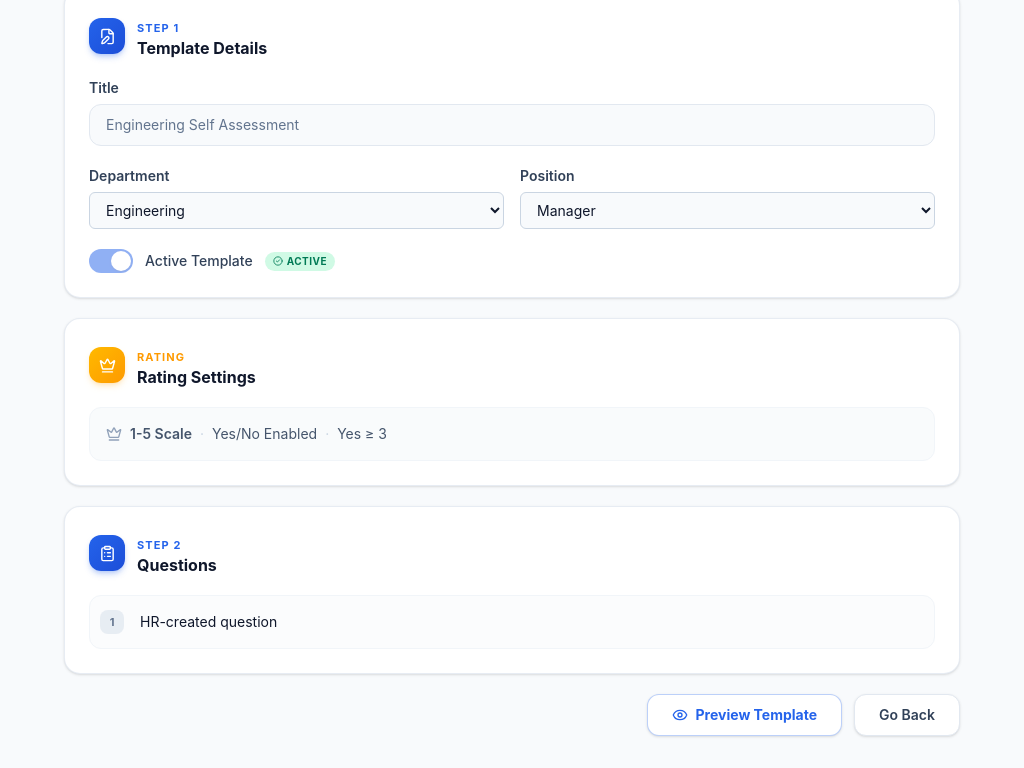
Test case: EditSelfAssessmentTemplatePage manager question permissions › lets locked templates open the preview
(page scrolled)
Click the button "Preview Template" at (744, 715), box [646,694,842,736]
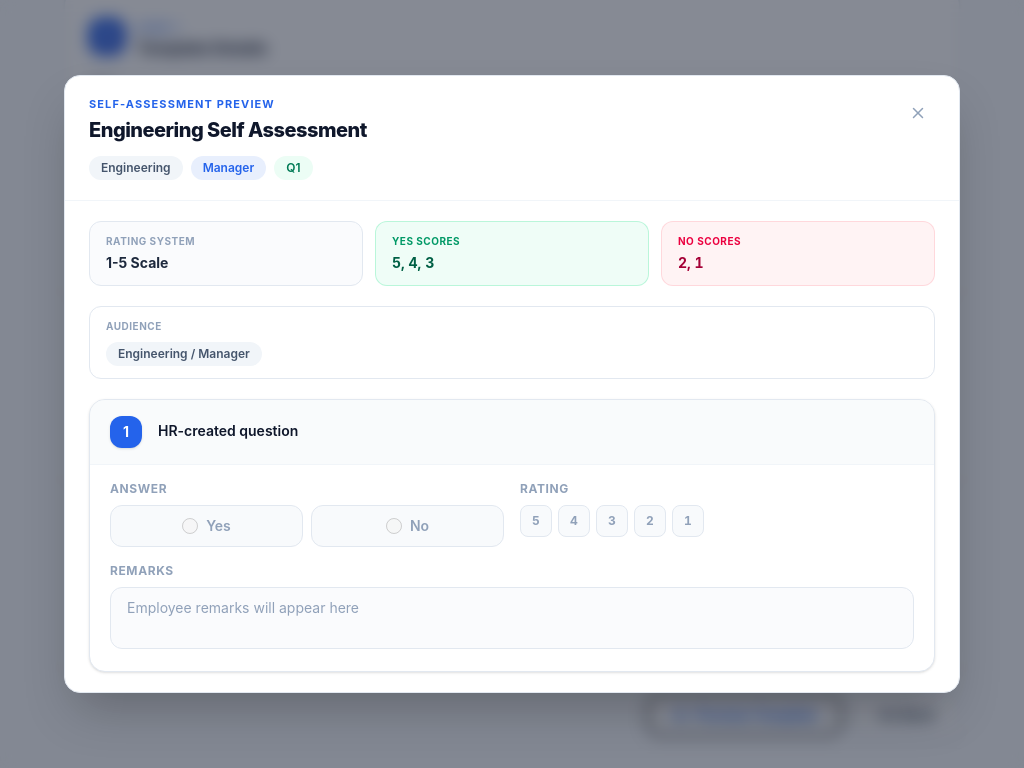
Result: the dialog "Engineering Self Assessment" shows "HR-created question" at [158,422,298,439]
